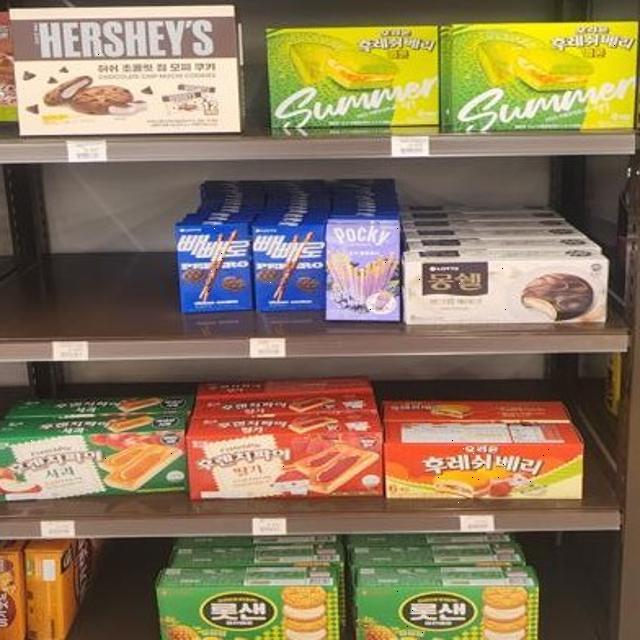product: (18, 7, 239, 139), (442, 25, 637, 128), (268, 27, 441, 132), (388, 435, 585, 503), (189, 432, 381, 497), (407, 262, 608, 322), (156, 579, 341, 638), (360, 581, 540, 640), (2, 433, 188, 490), (325, 215, 400, 322), (179, 227, 253, 316), (255, 227, 325, 310)
